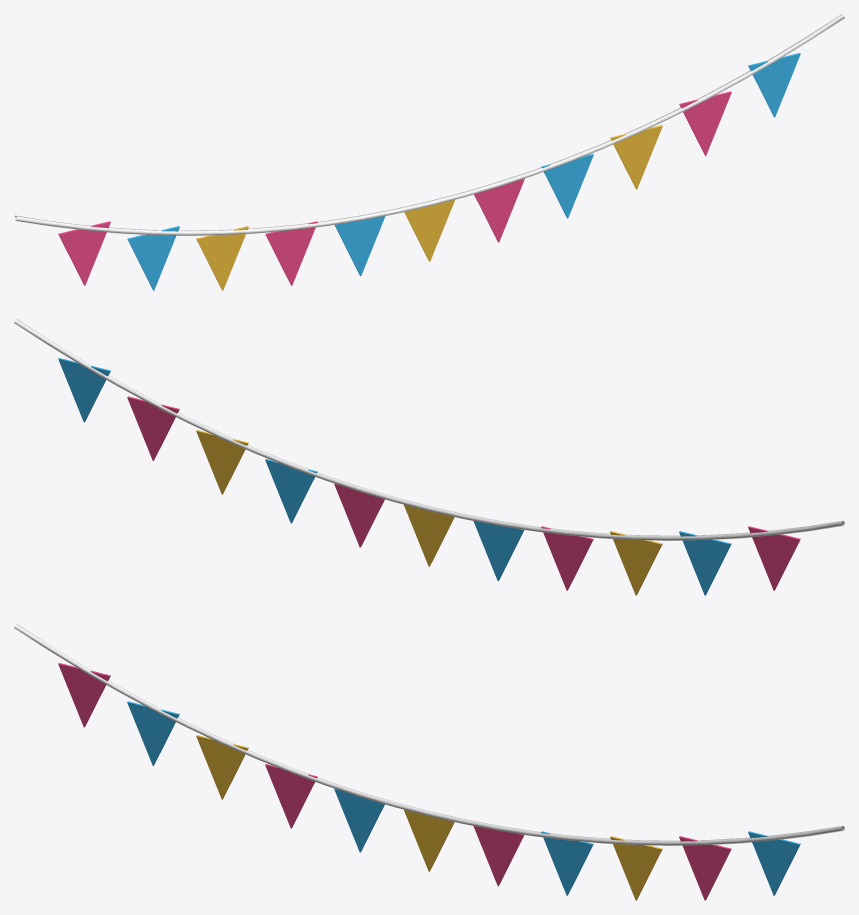
The model's file is LobbyBunting.obj.
The picture shows the model from 3 angles, top to bottom: view 1: azimuth 30°, elevation 25°; view 2: azimuth 150°, elevation 25°; view 3: azimuth 330°, elevation 25°; orthographic projection.
Parts seen in each view (by area): view 1: FlagB, FlagA, Rope, FlagC; view 2: FlagB, FlagA, Rope, FlagC; view 3: FlagA, FlagB, Rope, FlagC.
Part boxes in pixels (box(x1,y1,x2,y2)): FlagB: box(127, 53, 800, 290); FlagA: box(58, 91, 731, 285); Rope: box(14, 14, 844, 235); FlagC: box(196, 125, 662, 290); FlagB: box(58, 358, 731, 595); FlagA: box(127, 396, 800, 590); Rope: box(14, 319, 844, 540); FlagC: box(196, 430, 662, 595); FlagA: box(58, 663, 731, 900); FlagB: box(127, 701, 800, 895); Rope: box(14, 624, 844, 845); FlagC: box(196, 735, 662, 900).
Size of the model in its own units: 24.05 by 4.05 by 0.1332.
